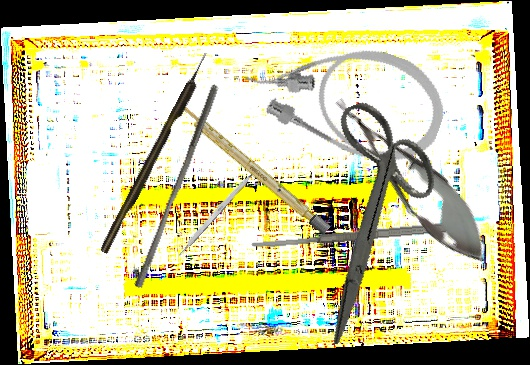Cannula: (234, 12, 457, 178)
Hook Surgical: (98, 51, 213, 255)
Iris Scissors: (260, 87, 478, 346)
Micro Scissor: (318, 82, 505, 278)
Pusher: (133, 79, 220, 293)
Scalpel Handle: (173, 100, 332, 236), (174, 170, 255, 259)
Spatula Surgical: (250, 219, 471, 251)
